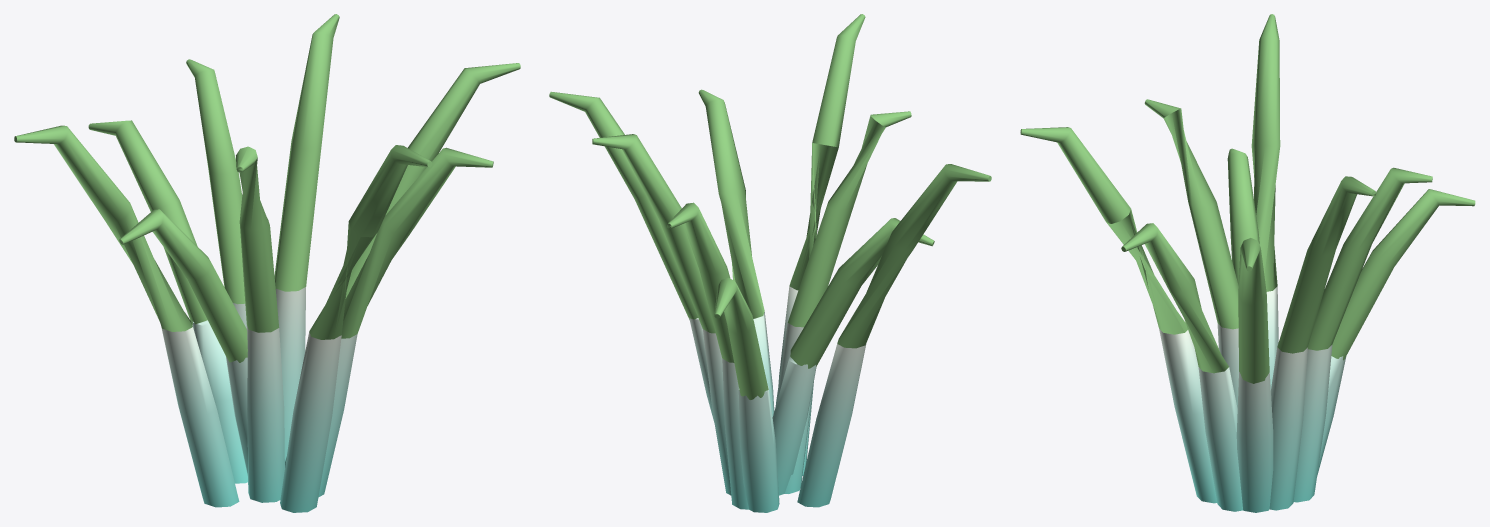
The model's file is ENV_Dimsum_Scallion.fbx.
3 renders of one model, left to right at view 1: azimuth 30°, elevation 25°; view 2: azimuth 150°, elevation 25°; view 3: azimuth 270°, elevation 25°, orthographic. The views are drawn at different scales.
Parts seen in each view (by area): view 1: ENV_Dimsum_Scallion; view 2: ENV_Dimsum_Scallion; view 3: ENV_Dimsum_Scallion.
Boxes of the visible parts, x1=… form: ENV_Dimsum_Scallion: x1=14, y1=14, x2=520, y2=512; ENV_Dimsum_Scallion: x1=549, y1=14, x2=991, y2=512; ENV_Dimsum_Scallion: x1=1020, y1=14, x2=1475, y2=512.
Size of the model in its own units: 1.01 by 0.8175 by 0.8911.
